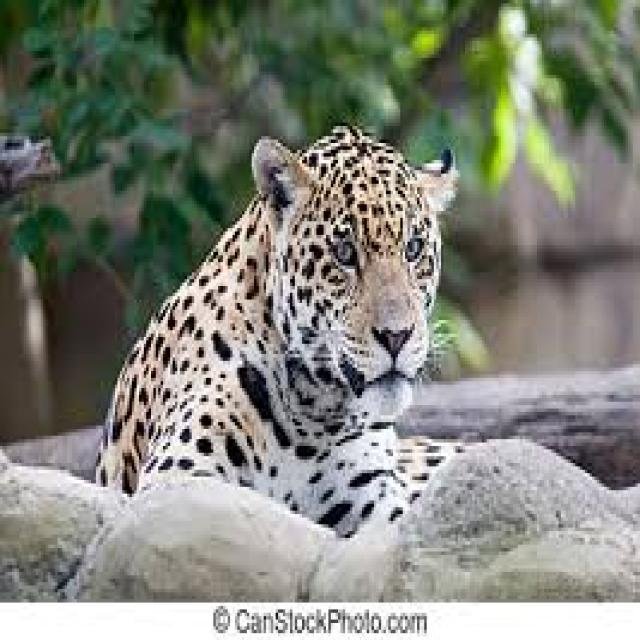Jaguar: (91, 123, 470, 548)
